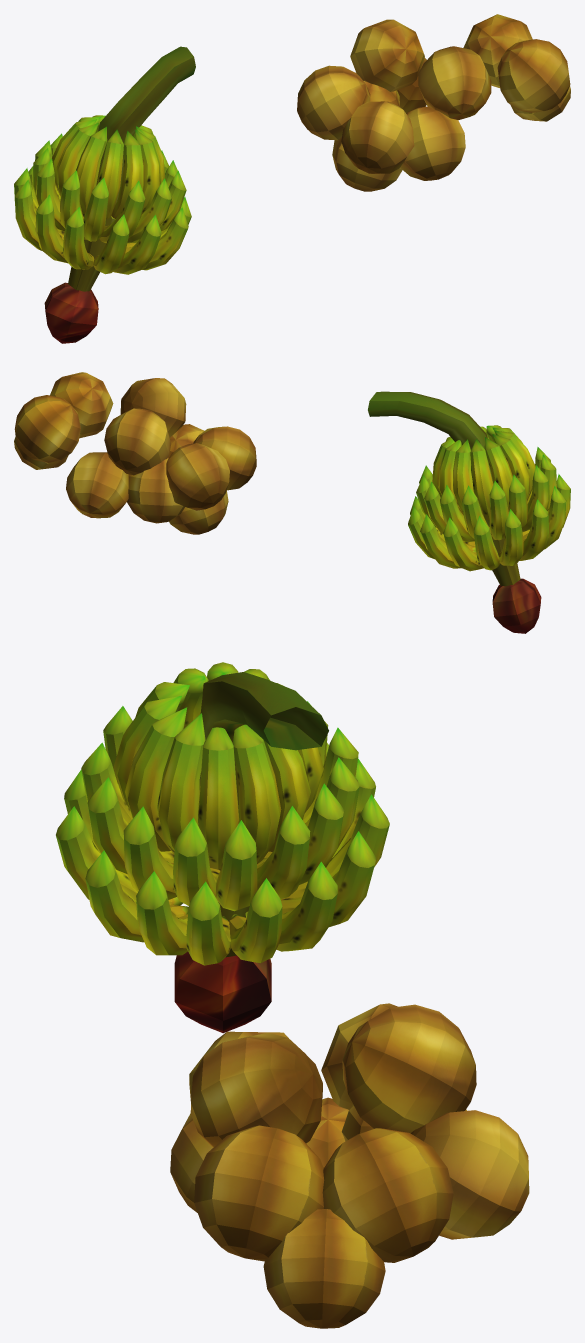
Rendered from Fruits.fbx.
3 views of the same model, one above another, from view 1: azimuth 30°, elevation 25°; view 2: azimuth 150°, elevation 25°; view 3: azimuth 270°, elevation 25° (orthographic). The views are drawn at different scales.
Visible parts, largest first — view 1: pCube65, pSphere11, pSphere6, pSphere8, pSphere7, pSphere5, pSphere3, pSphere1, pSphere10, pSphere4, pCylinder2, pCylinder4 (+19 smaller); view 2: pCube65, pSphere10, pSphere5, pSphere7, pSphere9, pSphere11, pSphere2, pSphere8, pSphere6, pSphere1, pSphere4, pCylinder11 (+23 smaller); view 3: pSphere7, pSphere11, pSphere10, pSphere8, pSphere12, pSphere9, pCube65, pSphere1, pCylinder7, pCylinder8, pCylinder6, pCylinder5 (+27 smaller).
Boxes of the visible parts, bbox=[...] form: pCube65: bbox=[68, 46, 195, 291]; pSphere11: bbox=[497, 39, 570, 112]; pSphere6: bbox=[341, 101, 414, 173]; pSphere8: bbox=[418, 46, 491, 120]; pSphere7: bbox=[350, 19, 424, 91]; pSphere5: bbox=[297, 65, 370, 140]; pSphere3: bbox=[400, 106, 465, 180]; pSphere1: bbox=[44, 282, 98, 343]; pSphere10: bbox=[463, 14, 532, 87]; pSphere4: bbox=[332, 137, 402, 191]; pCylinder2: bbox=[76, 126, 107, 214]; pCylinder4: bbox=[111, 131, 143, 219]; pCube65: bbox=[368, 391, 520, 586]; pSphere10: bbox=[14, 395, 80, 462]; pSphere5: bbox=[166, 443, 229, 510]; pSphere7: bbox=[104, 408, 171, 475]; pSphere9: bbox=[66, 452, 128, 518]; pSphere11: bbox=[50, 372, 113, 438]; pSphere2: bbox=[127, 457, 184, 523]; pSphere8: bbox=[120, 378, 186, 437]; pSphere6: bbox=[193, 426, 256, 490]; pSphere1: bbox=[492, 578, 541, 633]; pSphere4: bbox=[169, 490, 228, 534]; pCylinder11: bbox=[470, 439, 493, 519]; pSphere7: bbox=[342, 1004, 476, 1133]; pSphere11: bbox=[194, 1125, 324, 1261]; pSphere10: bbox=[322, 1128, 453, 1262]; pSphere8: bbox=[190, 1032, 322, 1147]; pSphere12: bbox=[263, 1209, 385, 1328]; pSphere9: bbox=[410, 1110, 529, 1239]; pCube65: bbox=[199, 672, 328, 957]; pSphere1: bbox=[174, 951, 271, 1033]; pCylinder7: bbox=[198, 727, 238, 869]; pCylinder8: bbox=[233, 724, 281, 863]; pCylinder6: bbox=[157, 713, 205, 854]; pCylinder5: bbox=[125, 707, 187, 851].
Bounding box in the file's own units: 10.77 × 4.48 × 4.3.
4 materials, 4 textured.
